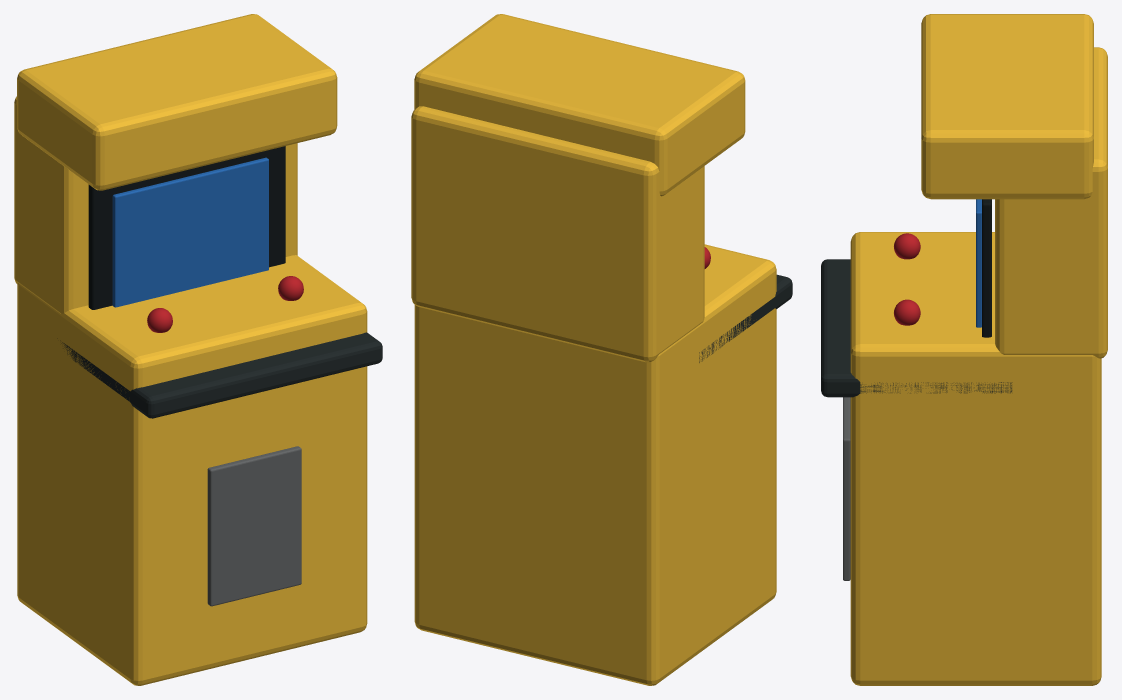
The model's file is hiperreal-hd.glb.
The picture shows the model from 3 angles, left to right: view 1: azimuth 30°, elevation 25°; view 2: azimuth 150°, elevation 25°; view 3: azimuth 270°, elevation 25°; orthographic projection. The views are drawn at different scales.
Visible parts, largest first — view 1: Arcade cabinet, Marquee, Game screen, Coin door, Upper housing, Control deck, Monitor surround; view 2: Arcade cabinet, Upper housing, Marquee, Control deck; view 3: Arcade cabinet, Marquee, Upper housing, Control deck, Coin door, Monitor surround, Game screen, Joystick ball.001, Joystick ball.
Boxes of the visible parts, box(x1,y1,x2,y2) form: Arcade cabinet: box(17, 255, 367, 685); Marquee: box(17, 14, 337, 190); Game screen: box(112, 157, 268, 307); Coin door: box(207, 446, 301, 606); Upper housing: box(14, 96, 297, 314); Control deck: box(57, 332, 382, 418); Monitor surround: box(88, 146, 285, 309); Arcade cabinet: box(414, 244, 776, 685); Upper housing: box(411, 106, 704, 362); Marquee: box(414, 14, 745, 196); Control deck: box(699, 274, 792, 362); Arcade cabinet: box(850, 232, 1101, 685); Marquee: box(921, 14, 1093, 199); Upper housing: box(995, 47, 1107, 358); Control deck: box(821, 259, 1012, 397); Coin door: box(843, 397, 850, 580); Monitor surround: box(982, 199, 991, 337); Game screen: box(976, 199, 981, 327); Joystick ball.001: box(894, 299, 920, 325); Joystick ball: box(894, 233, 920, 259).
Bounding box in the file's own units: 1.03 × 2.18 × 1.02.
